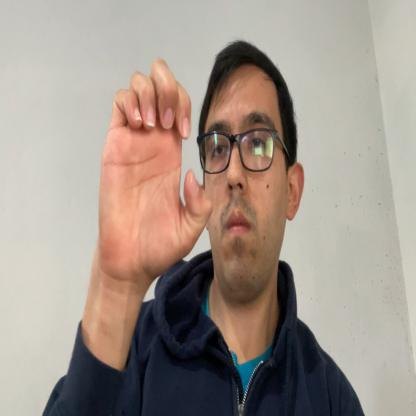E: (98, 57, 214, 284)
